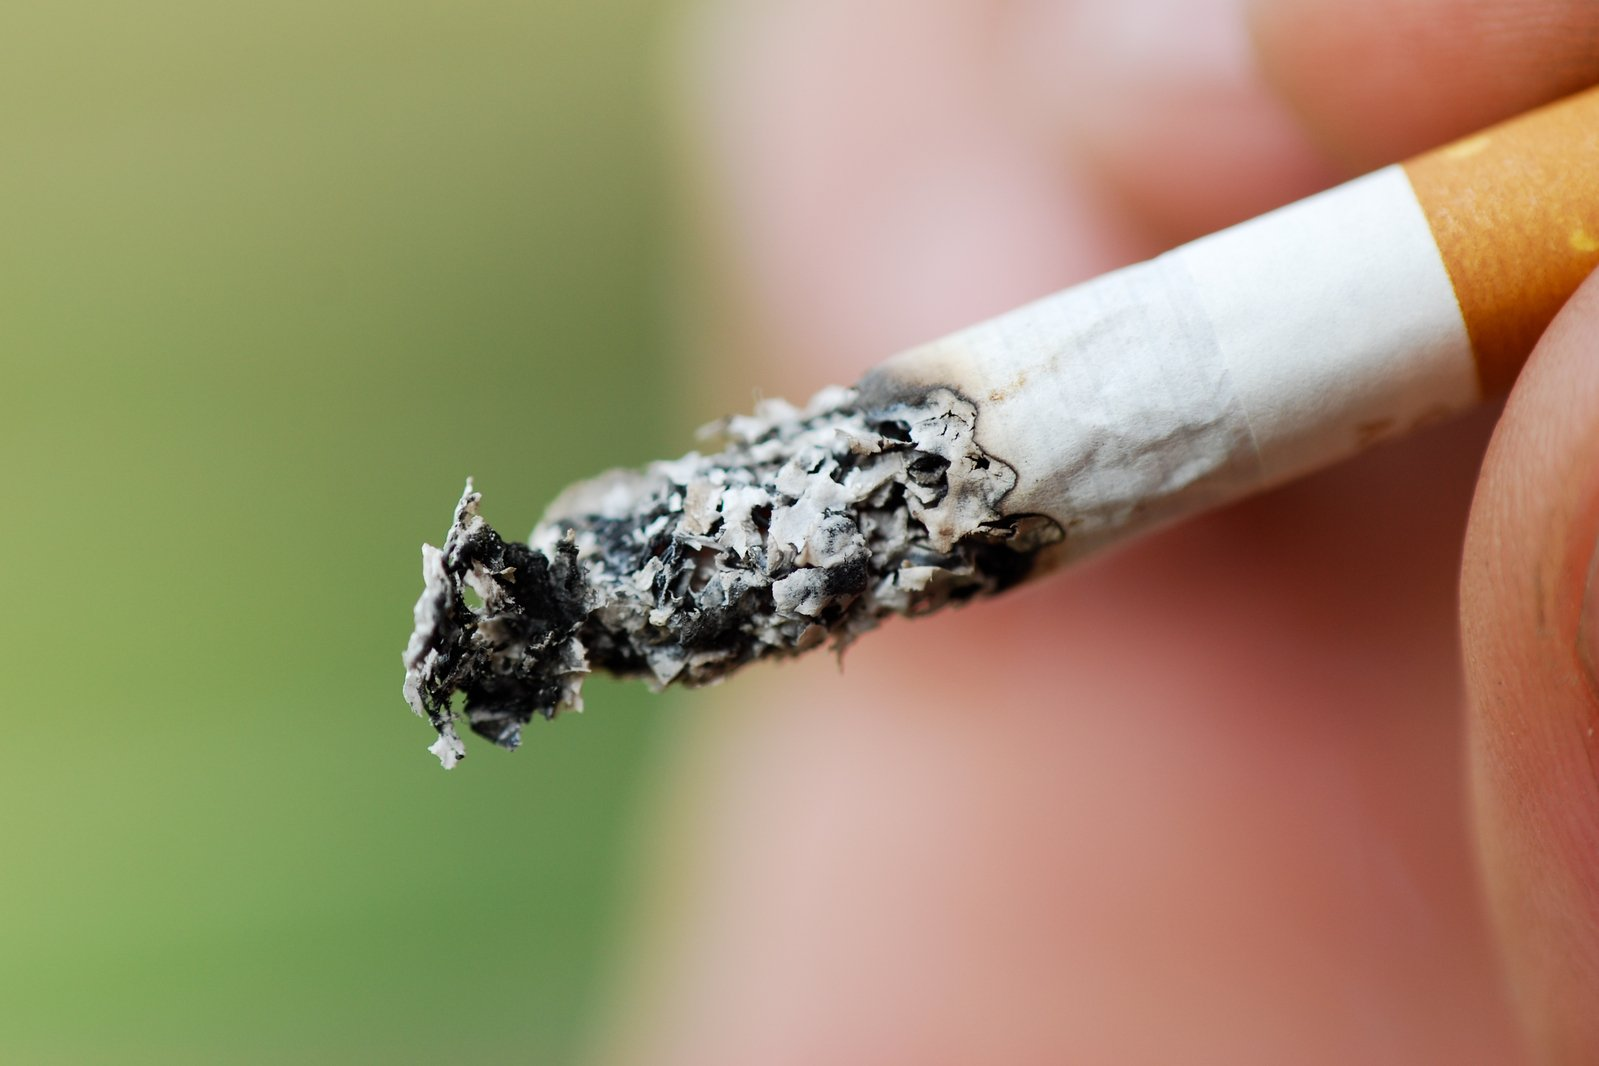cigarette: (391, 88, 1599, 755)
